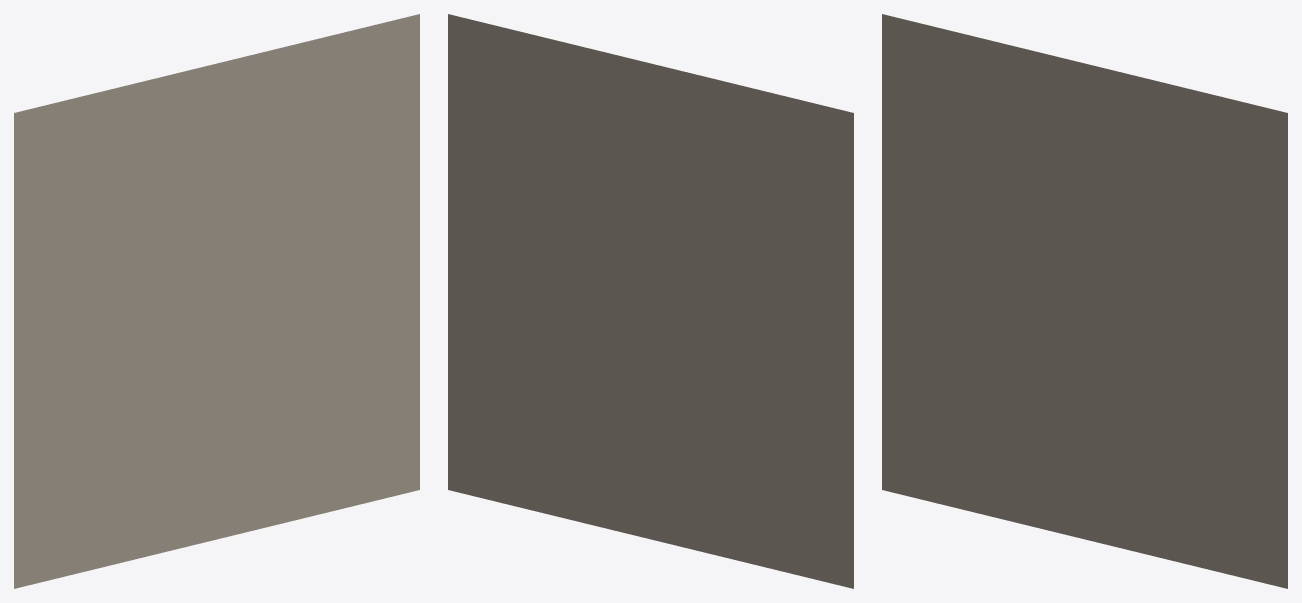
Rendered from 05-mauler-flash.glb.
3 renders of one model, left to right at view 1: azimuth 30°, elevation 25°; view 2: azimuth 150°, elevation 25°; view 3: azimuth 330°, elevation 25°, orthographic.
Visible parts, largest first — view 1: gun; view 2: gun; view 3: gun.
Boxes of the visible parts, x1,y1,x2,y2 form: gun: (14,14,419,588); gun: (448,14,853,588); gun: (882,14,1287,588).
Bounding box in the file's own units: 298 × 334 × 0.
1 material, 1 textured.
